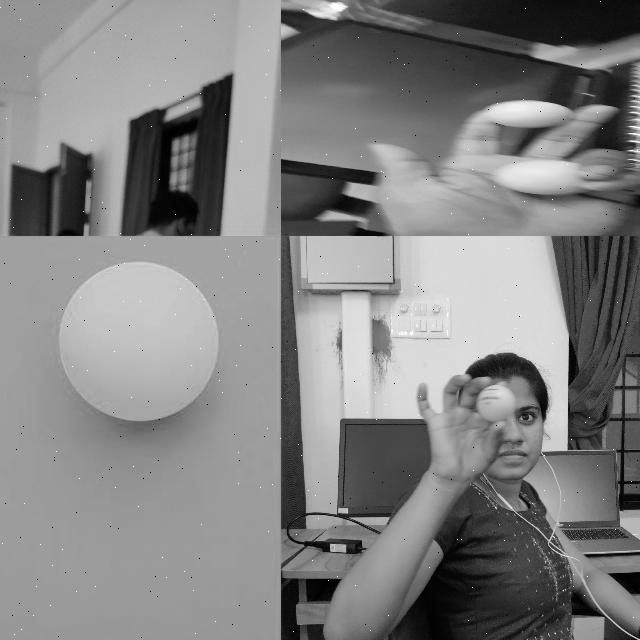ping-pong-ball: (60, 264, 216, 422), (492, 160, 596, 196), (486, 100, 570, 126), (478, 385, 514, 421)
